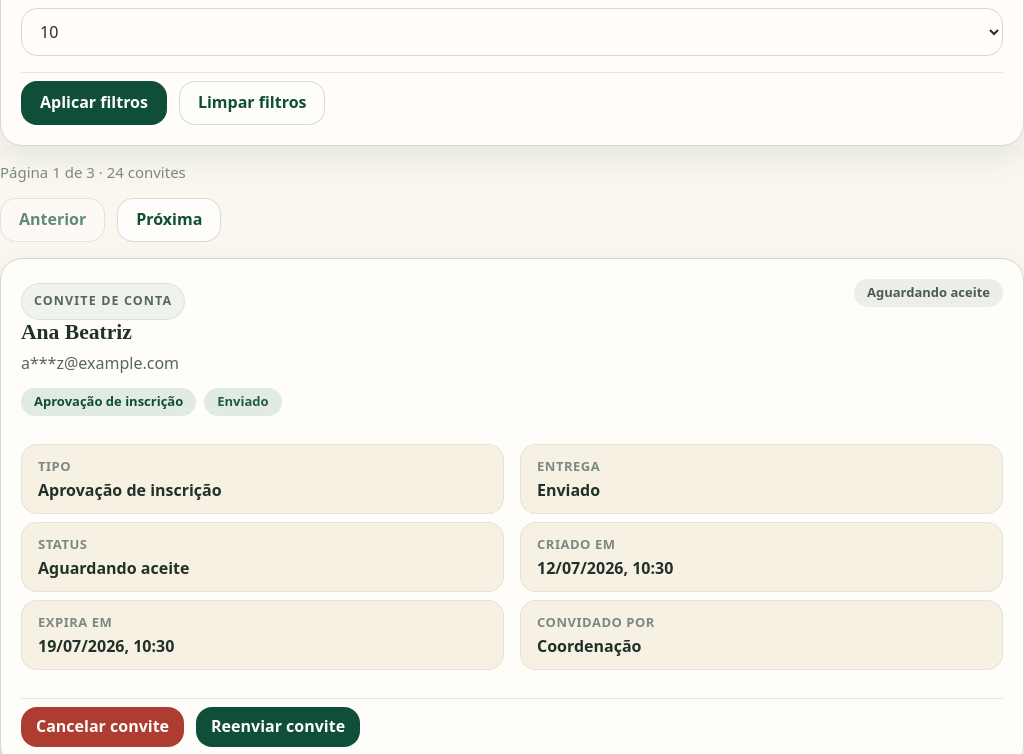
it: AdminAccountInvitationsPage › sucesso exibe mensagem segura
(page scrolled)
Click the button "Cancelar convite" at point(102, 727), box [21,707,184,747]
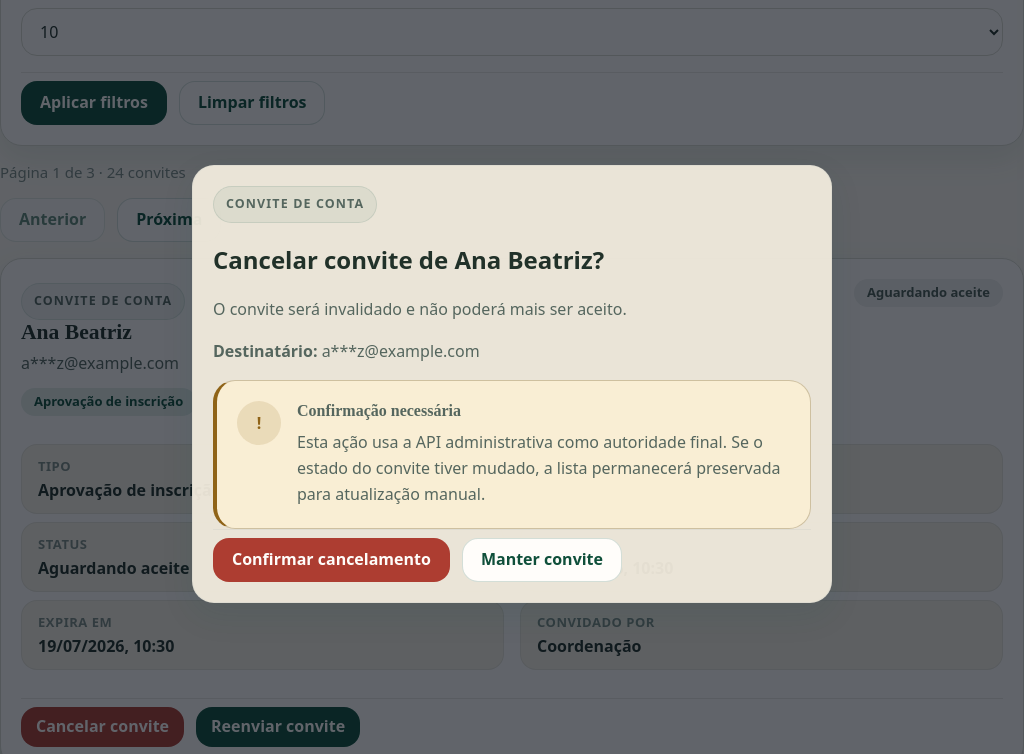
Click the button "Confirmar cancelamento" at point(331, 560), box [213,538,450,582]
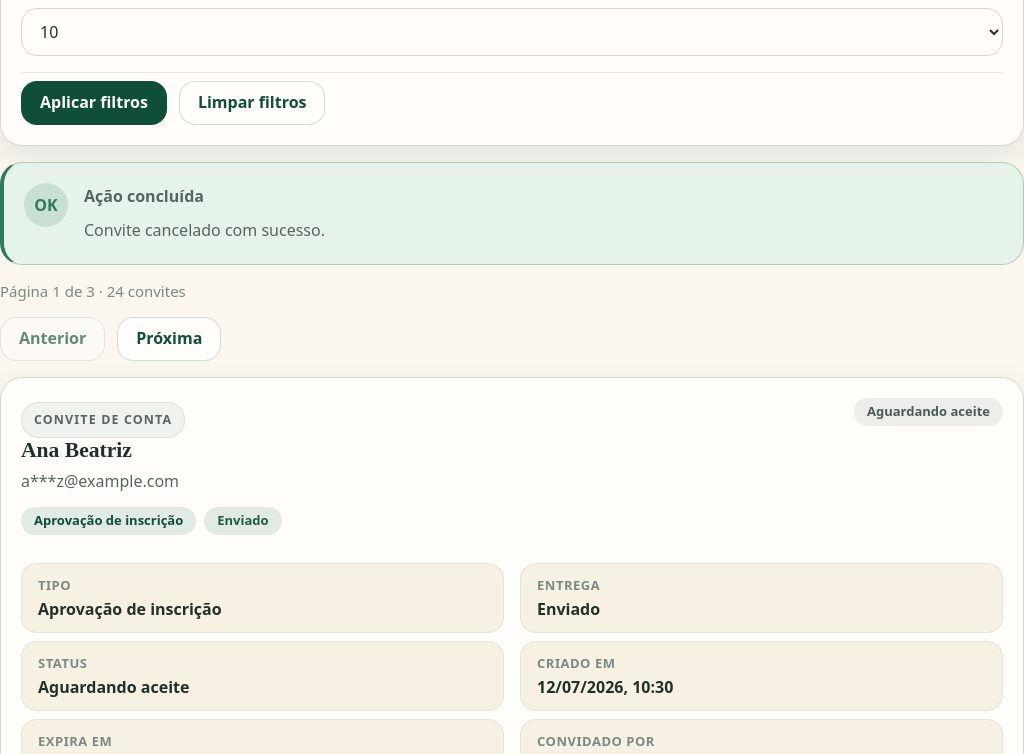
Now the text "Convite cancelado com sucesso." is shown, box [84,219,325,241]
